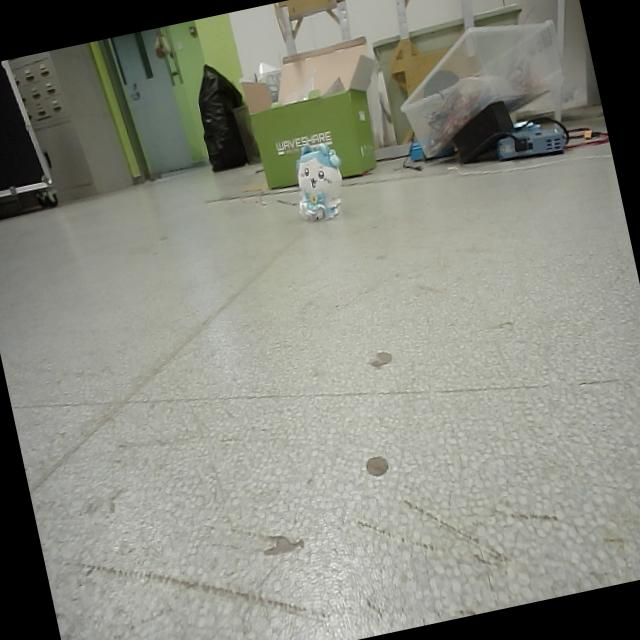xiaoba: (290, 140, 348, 223)
